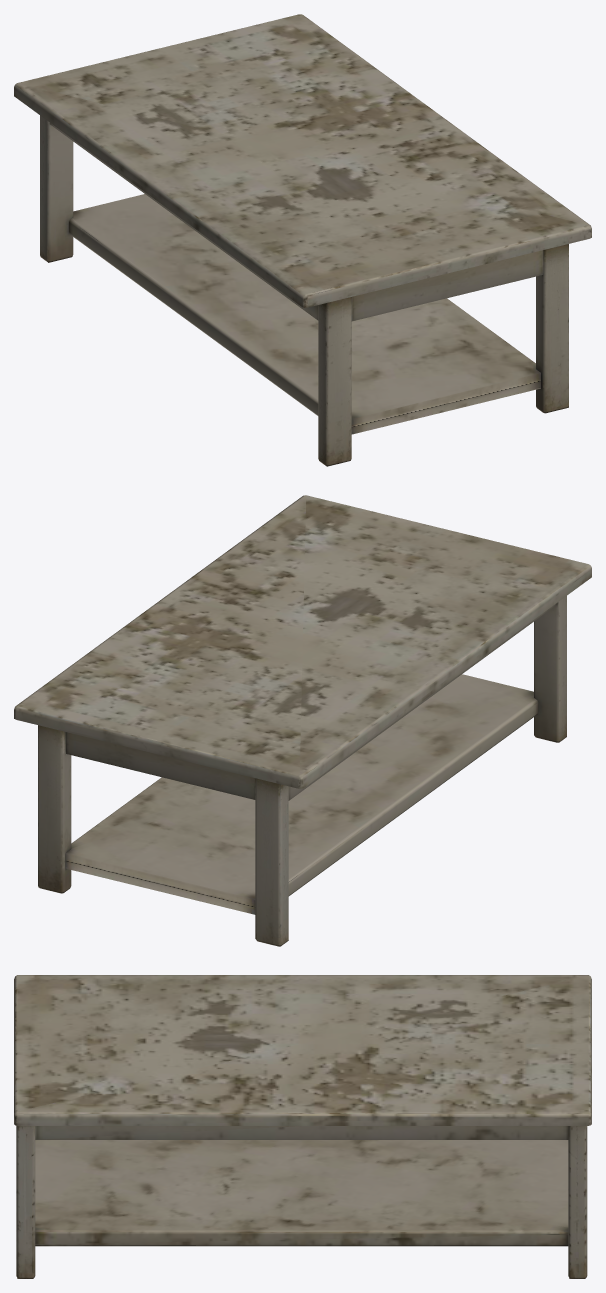
Rendered from Bigger Table.fbx.
3 renders of one model, top to bottom at view 1: azimuth 30°, elevation 25°; view 2: azimuth 150°, elevation 25°; view 3: azimuth 270°, elevation 25°, orthographic.
Visible parts, largest first — view 1: tripo_node_76f6ba9a-1443-41f5-a04a-47cb613d9218; view 2: tripo_node_76f6ba9a-1443-41f5-a04a-47cb613d9218; view 3: tripo_node_76f6ba9a-1443-41f5-a04a-47cb613d9218.
Part boxes in pixels (box(x1,y1,x2,y2)): tripo_node_76f6ba9a-1443-41f5-a04a-47cb613d9218: box(14, 14, 591, 466); tripo_node_76f6ba9a-1443-41f5-a04a-47cb613d9218: box(14, 495, 591, 946); tripo_node_76f6ba9a-1443-41f5-a04a-47cb613d9218: box(14, 975, 591, 1278).
Size of the model in its own units: 57.23 by 33.79 by 99.8.
Materials: 1 (1 with a texture image).
